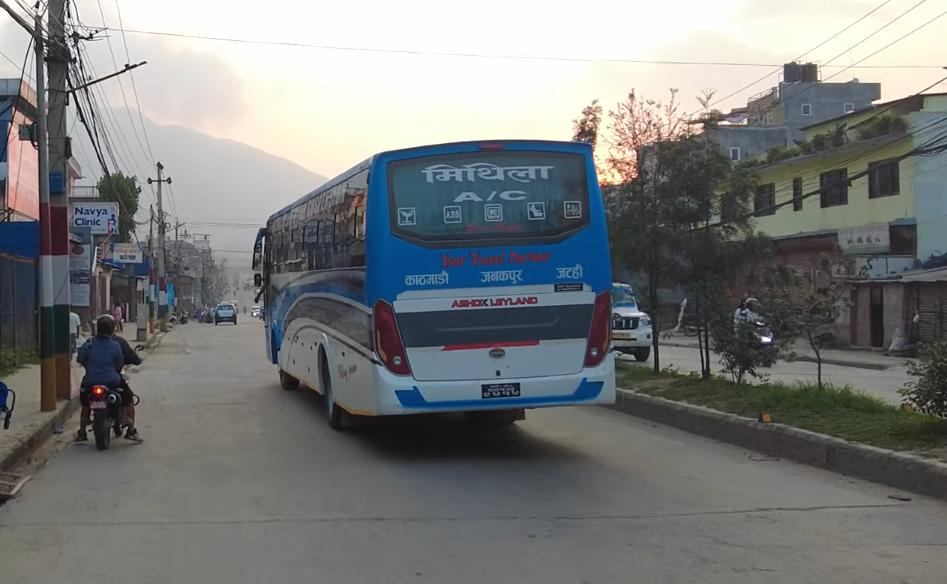bus: (251, 132, 623, 457)
